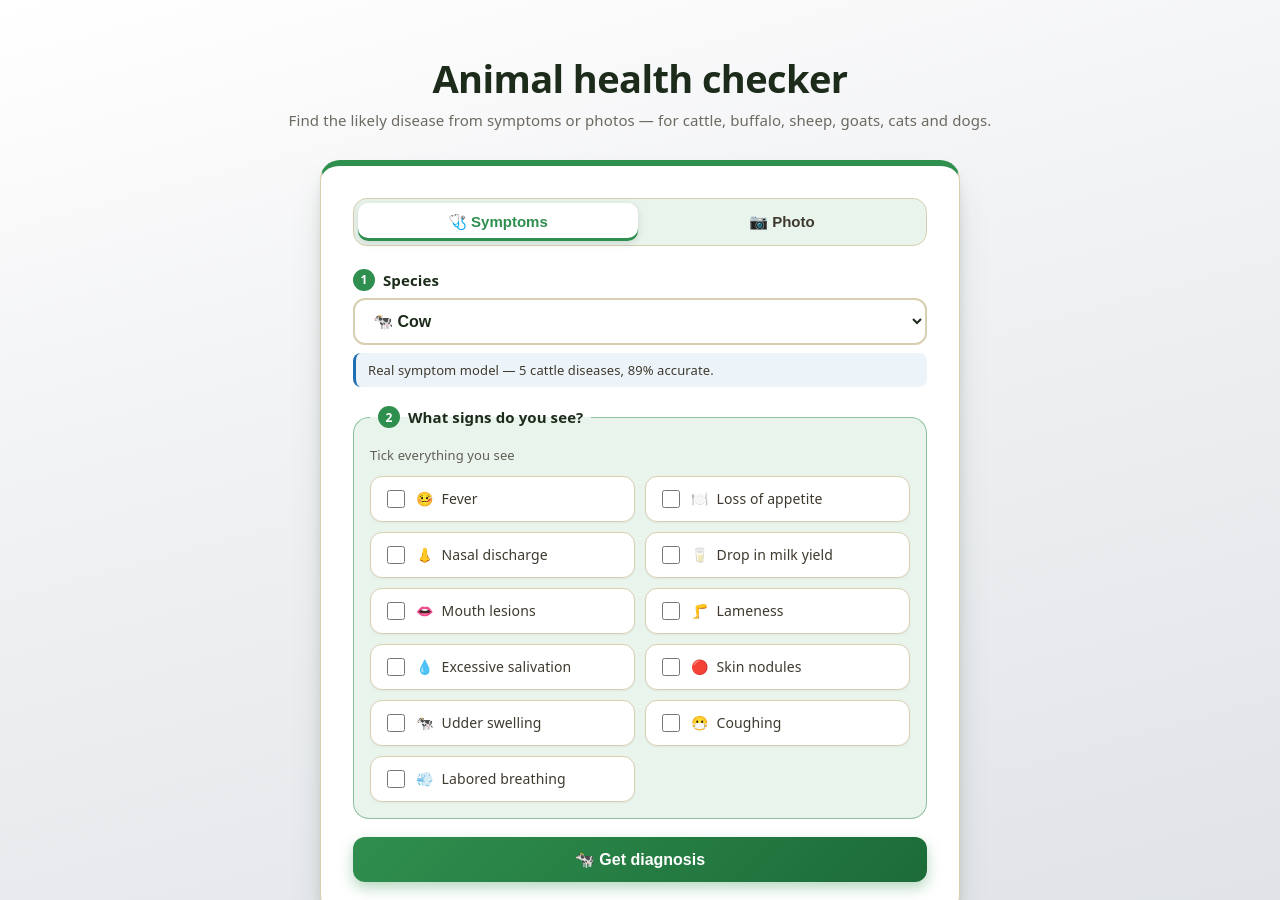
Scenario: DiagnosisIntake › shows the PPR-screen disclosure, uses sheep symptom fields, and sends species when Sheep is selected
Select "🐑 Sheep" in the dropdown labelled "1 Species" at (640, 321), box [353,298,927,345]
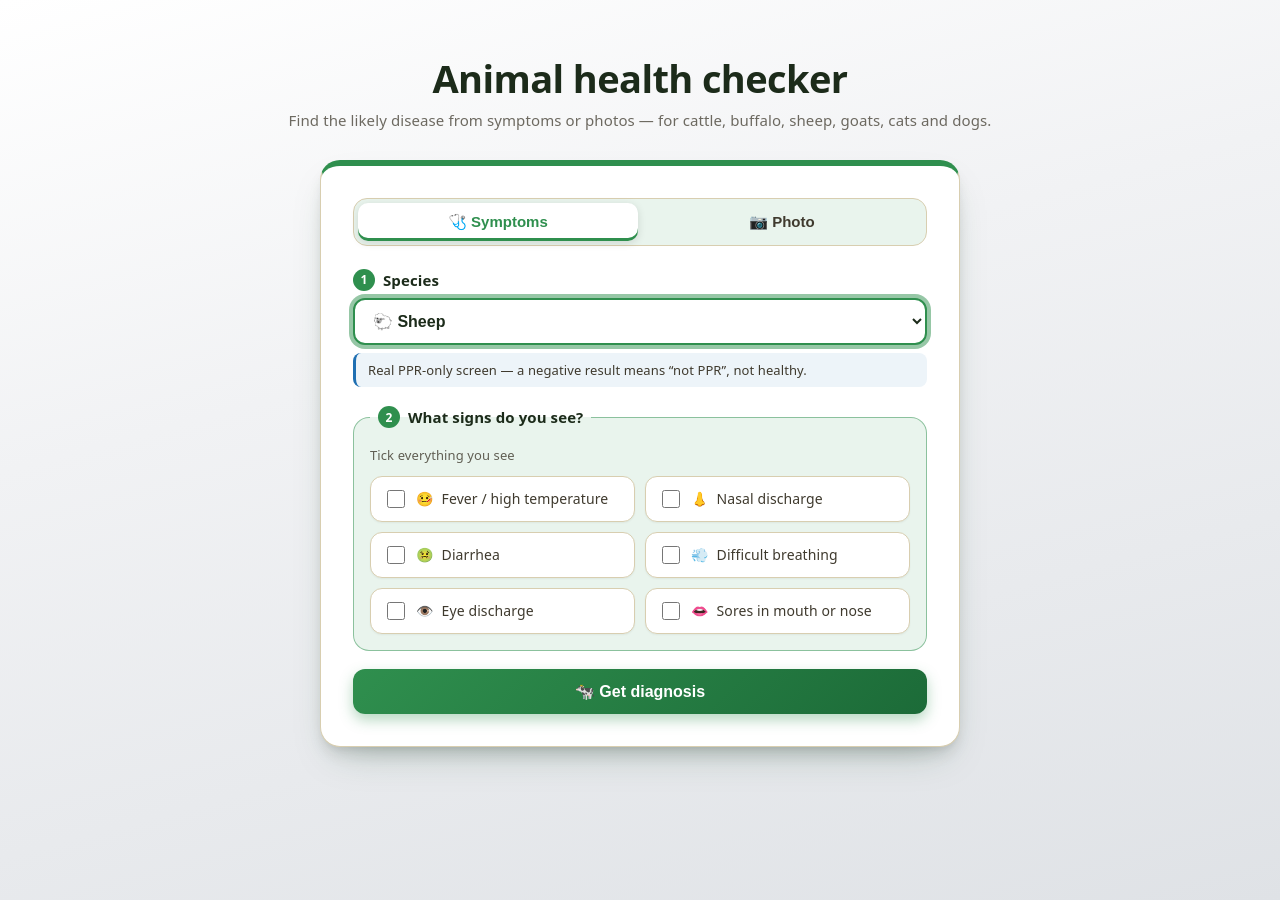
Expected: the checkbox labelled "👄 Sores in mouth or nose" is shown, [662,602,680,620]
Now the text "Real PPR-only screen" is shown, box [368,361,807,379]
Now the label labelled "Mouth lesions" is gone
Click the checkbox labelled "👃 Nasal discharge" at (671, 499), box [662,490,680,508]
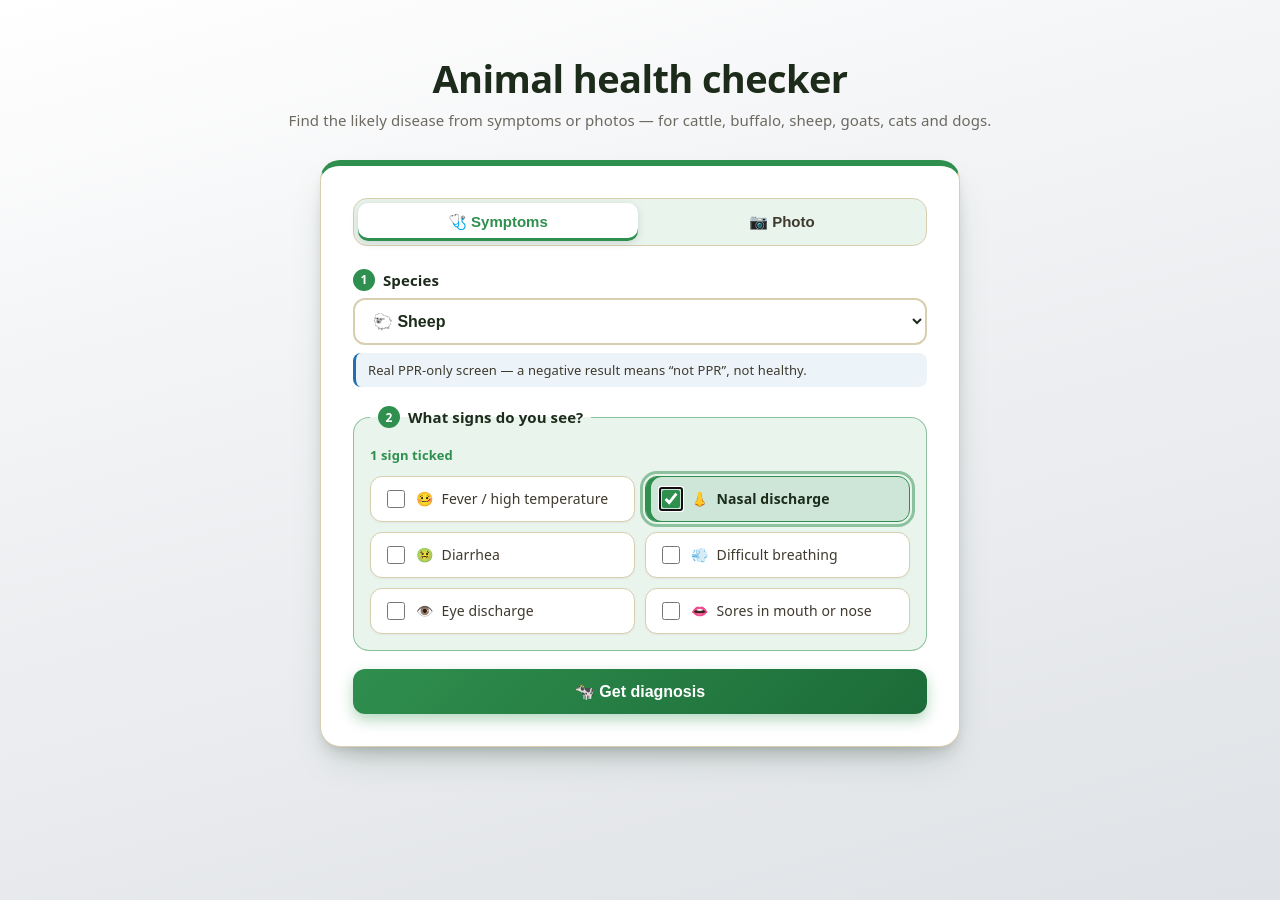
Click the checkbox labelled "👄 Sores in mouth or nose" at (671, 611), box [662,602,680,620]
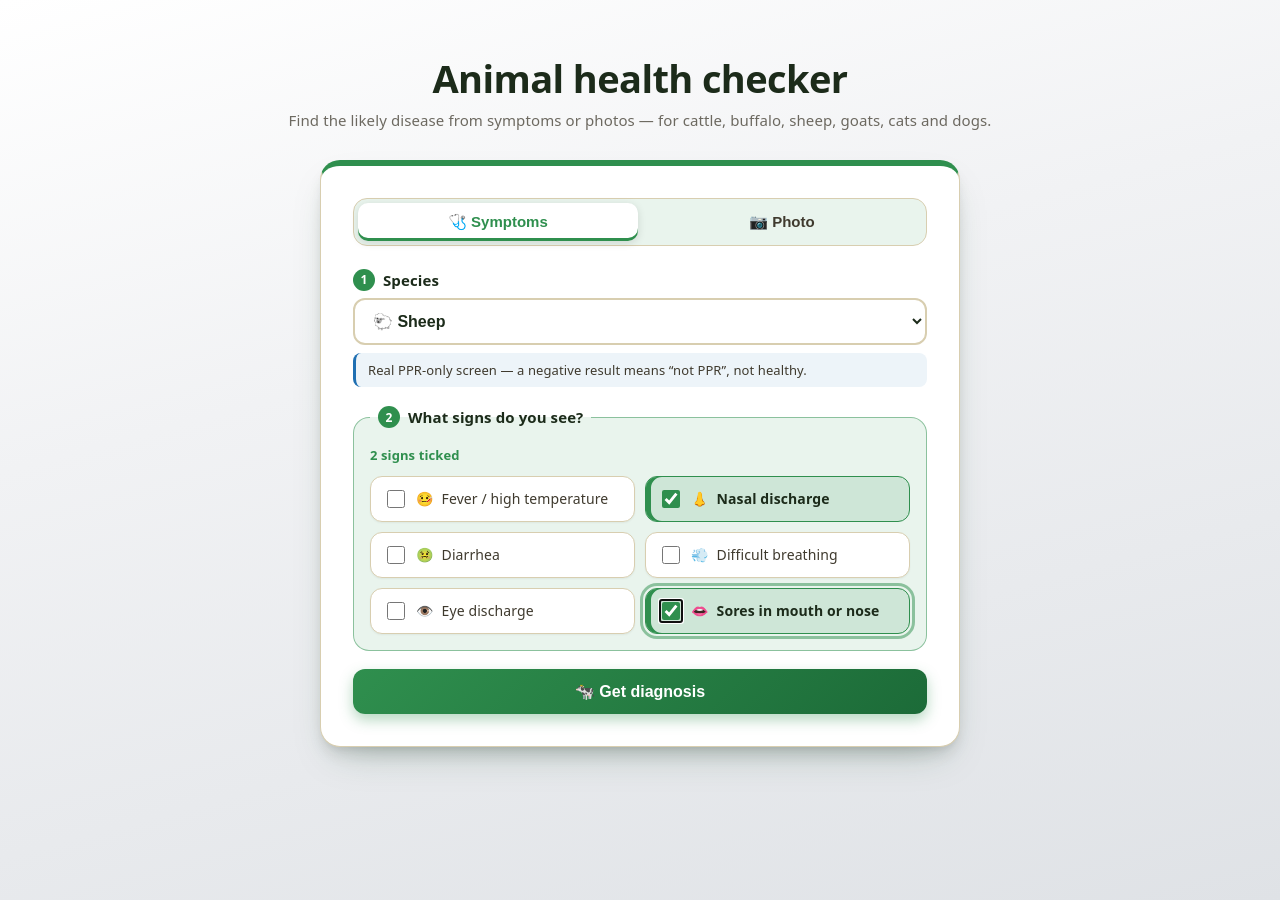
Click the button "🐄 Get diagnosis" at (640, 692), box [353,669,927,714]
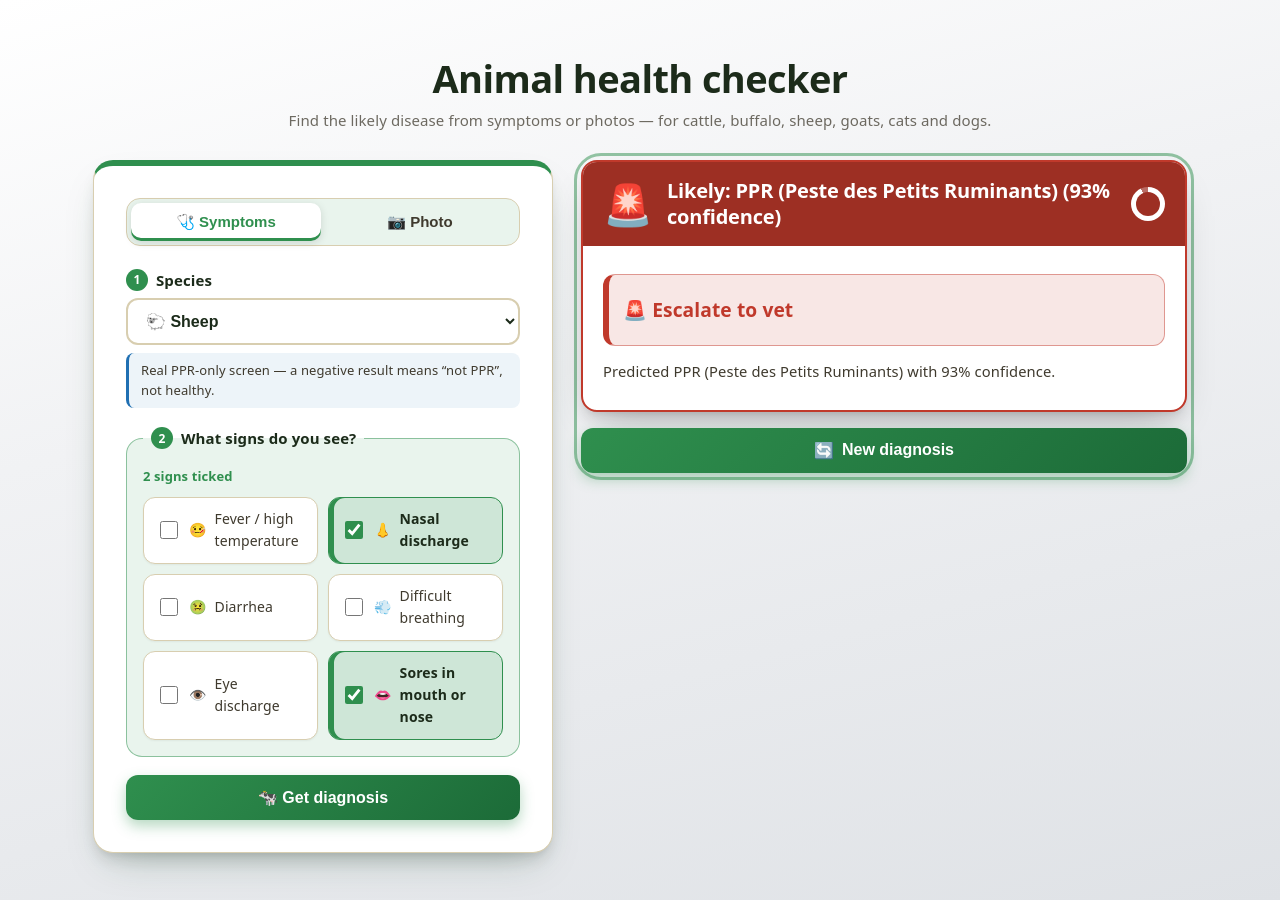
Now the heading "Likely: PPR (Peste des Petits Ruminants) (93% confidence)" is shown, box [667,178,1119,230]
Now the text "Escalate to vet" is shown, box [652,296,793,323]
